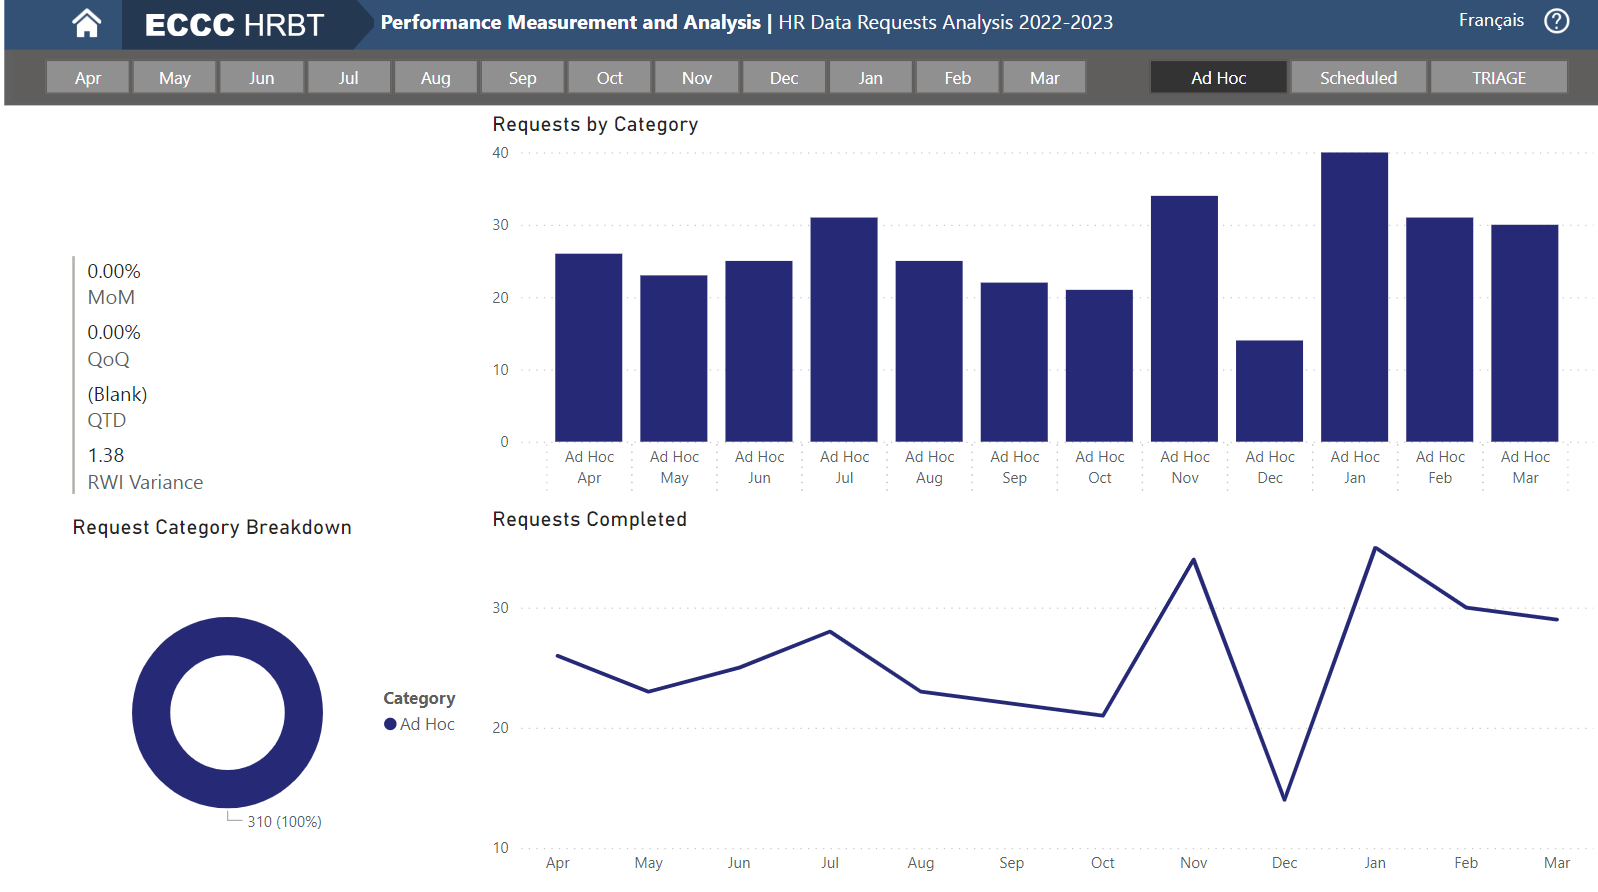

The dashboard page shown, as its layout file describes it:
{"tool":"powerbi","page":{"name":"Request Type Volume","canvas":[1280,720],"ordinal":3},"visuals":[{"type":"image","box":[0.9,0,1278.3,96],"z":0},{"type":"image","box":[54.6,8.8,32.6,32.6],"z":1000},{"type":"actionButton","box":[1159.4,3.1,66.2,38.1],"z":2000},{"type":"image","box":[1225.7,8.8,30,30],"z":3000},{"type":"slicer","fields":{"Values":["MonthOrder.MonthOrderDesc"]},"box":[12.6,47.6,878.4,39.8],"z":4000},{"type":"slicer","fields":{"Values":["HR_DATA_REQUEST_REPORT.INC_CAT_N"]},"box":[891,47.6,382.8,39.8],"z":5000},{"type":"donutChart","title":"Request Category Breakdown","fields":{"Category":["HR_DATA_REQUEST_REPORT.INC_CAT_N"],"Y":["CountNonNull(HR_DATA_REQUEST_REPORT.INCIDENT_REF)"]},"box":[55,415.8,333.3,296.7],"z":6000},{"type":"lineChart","title":"Requests Completed","fields":{"Category":["MonthOrder.MonthOrderDesc"],"Y":["CountNonNull(HR_DATA_REQUEST_REPORT.RESOLVED_DATE)"]},"box":[388.9,410,885.6,302.2],"z":7000},{"type":"multiRowCard","fields":{"Values":["HR_DATA_REQUEST_REPORT.Count of INCIDENT_REF MoM%","HR_DATA_REQUEST_REPORT.Count of INCIDENT_REF QoQ%","HR_DATA_REQUEST_REPORT.Count of INCIDENT_REF QTD","HR_DATA_REQUEST_REPORT.Requests Weighted Index Variance"]},"box":[55,206.2,176.2,208.8],"z":8000},{"type":"lineClusteredColumnComboChart","title":"Requests by Category","fields":{"Category":["MonthOrder.MonthOrderDesc","HR_DATA_REQUEST_REPORT.INC_CAT_N"],"Y":["CountNonNull(HR_DATA_REQUEST_REPORT.INCIDENT_REF)"]},"box":[388.9,95.6,885.6,314.4],"z":9000},{"type":"textbox","box":[300,8,666,33],"z":10000}]}

Visuals, with their boxes in screenshot pixels (x1, y1, x2, y2), scaled from the page's 1280x720 canvas onto the 1598x892 screenshot:
image: BBox(1, 0, 1597, 119)
image: BBox(68, 11, 109, 51)
actionButton: BBox(1447, 4, 1530, 51)
image: BBox(1530, 11, 1568, 48)
slicer - MonthOrder.MonthOrderDesc: BBox(16, 59, 1112, 108)
slicer - HR_DATA_REQUEST_REPORT.INC_CAT_N: BBox(1112, 59, 1590, 108)
"Request Category Breakdown" donutChart: BBox(69, 515, 485, 883)
"Requests Completed" lineChart: BBox(486, 508, 1591, 882)
multiRowCard - HR_DATA_REQUEST_REPORT.Count of INCIDENT_REF MoM% x HR_DATA_REQUEST_REPORT.Count of INCIDENT_REF QoQ%: BBox(69, 255, 289, 514)
"Requests by Category" lineClusteredColumnComboChart: BBox(486, 118, 1591, 508)
textbox: BBox(375, 10, 1206, 51)
